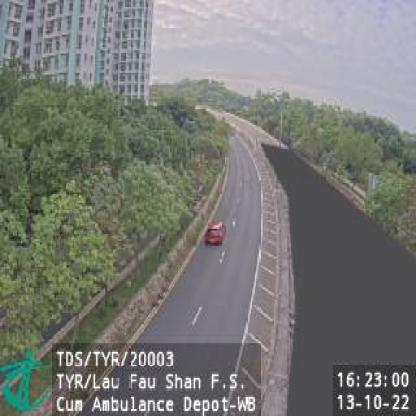Car: (204, 219, 226, 246)
